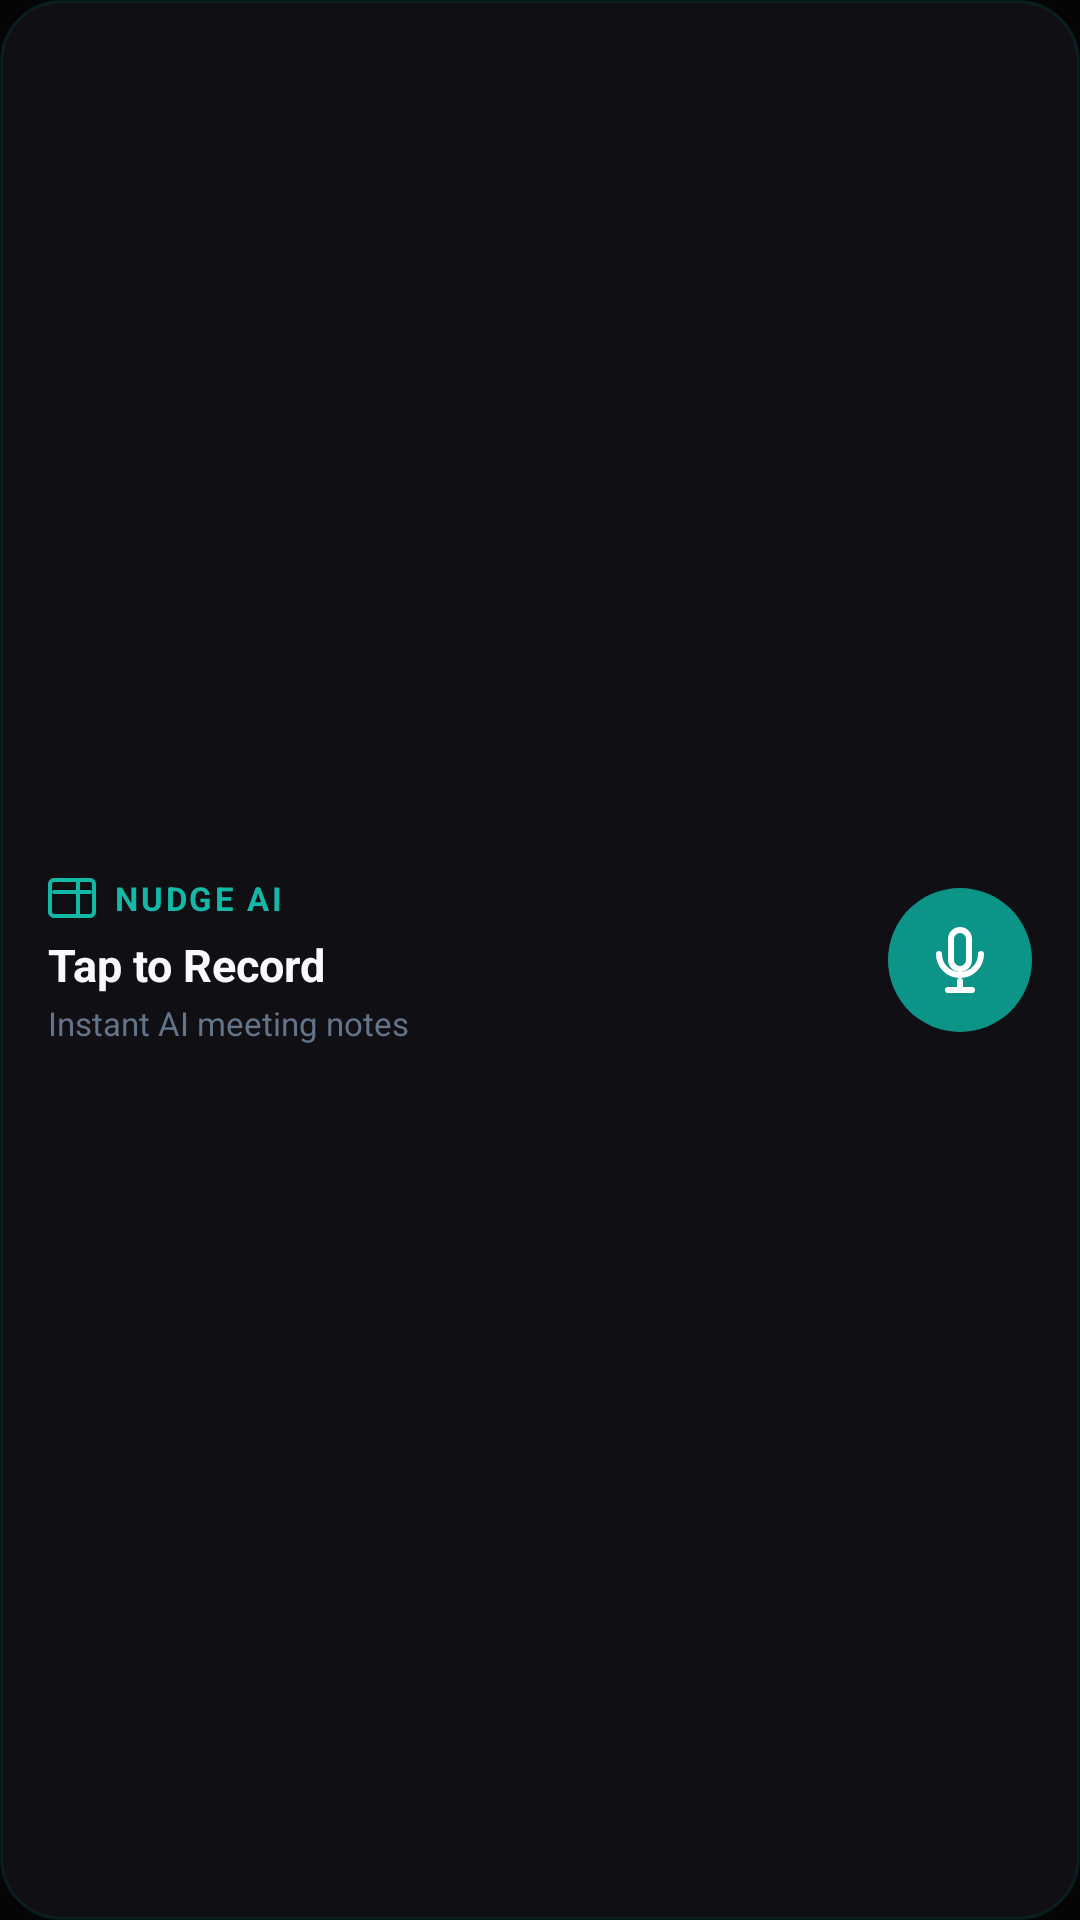

Icon click points for this 1080w x 1920h phone screenshot, format (x,y):
Start or Stop Recording: (960,960)
